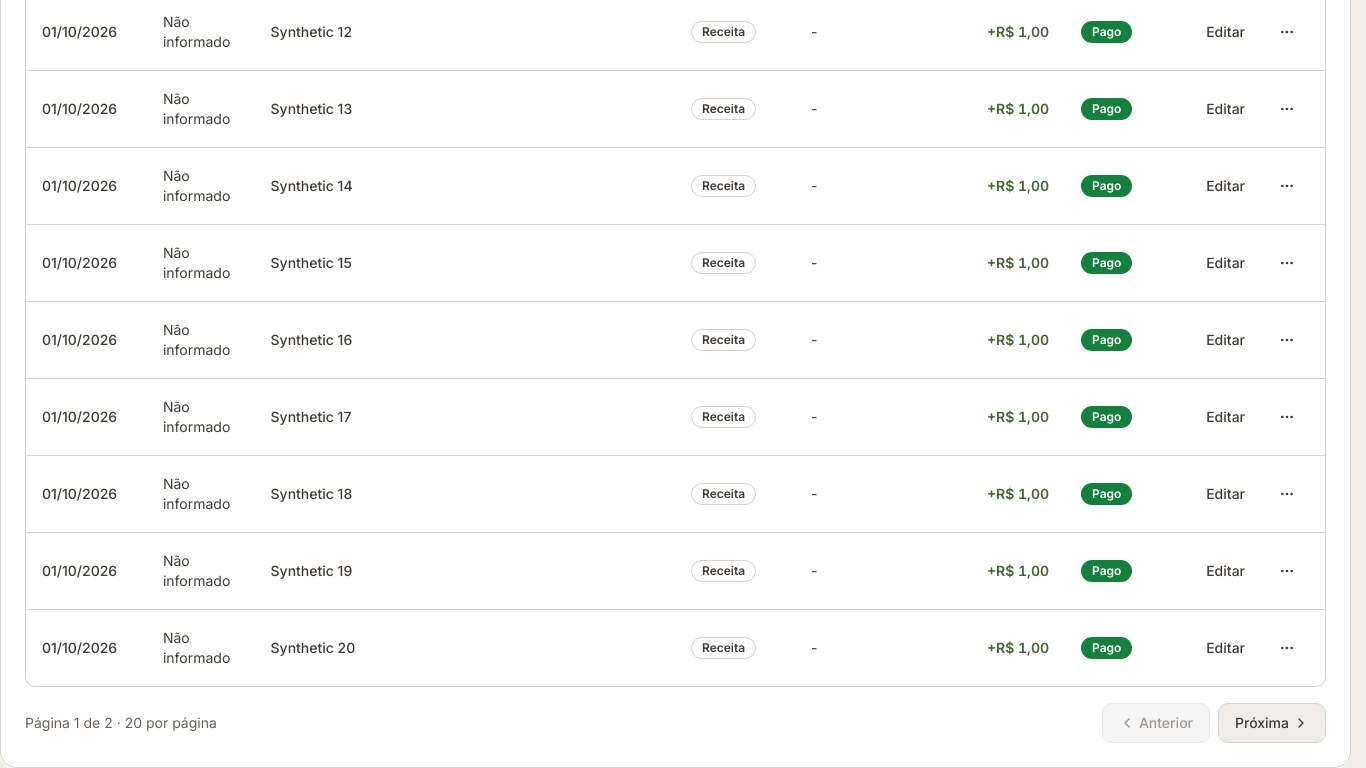
Test: financial workspace confidence and recovery › paginates rendering without changing filtered totals and exposes the full description
The width and height of the screenshot is (1366, 768).
(page scrolled)
Expected: the button "Synthetic 21" is not shown
Click the button "Próxima".
click(1272, 722)  # box [1218,702,1326,742]
(page scrolled)
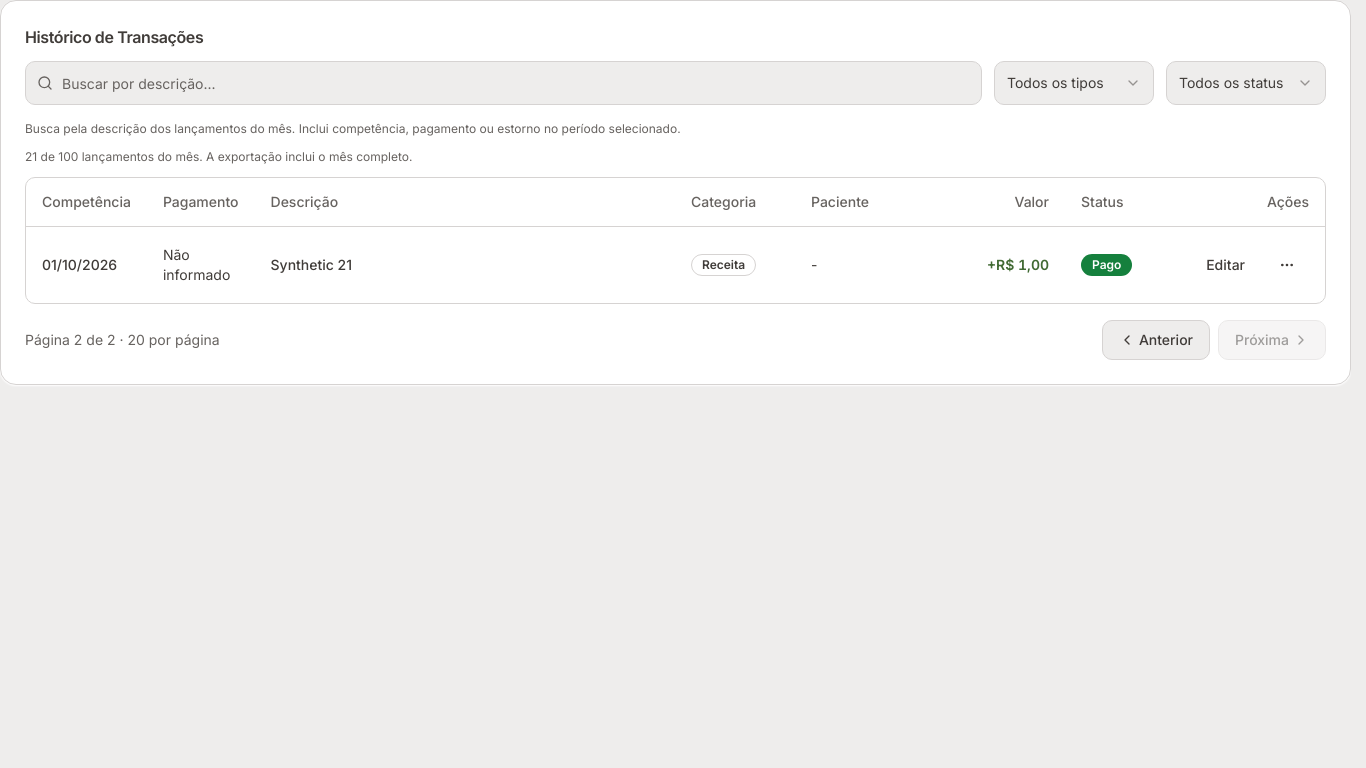
Click the button "Synthetic 21".
click(311, 264)  # box [270,242,352,286]
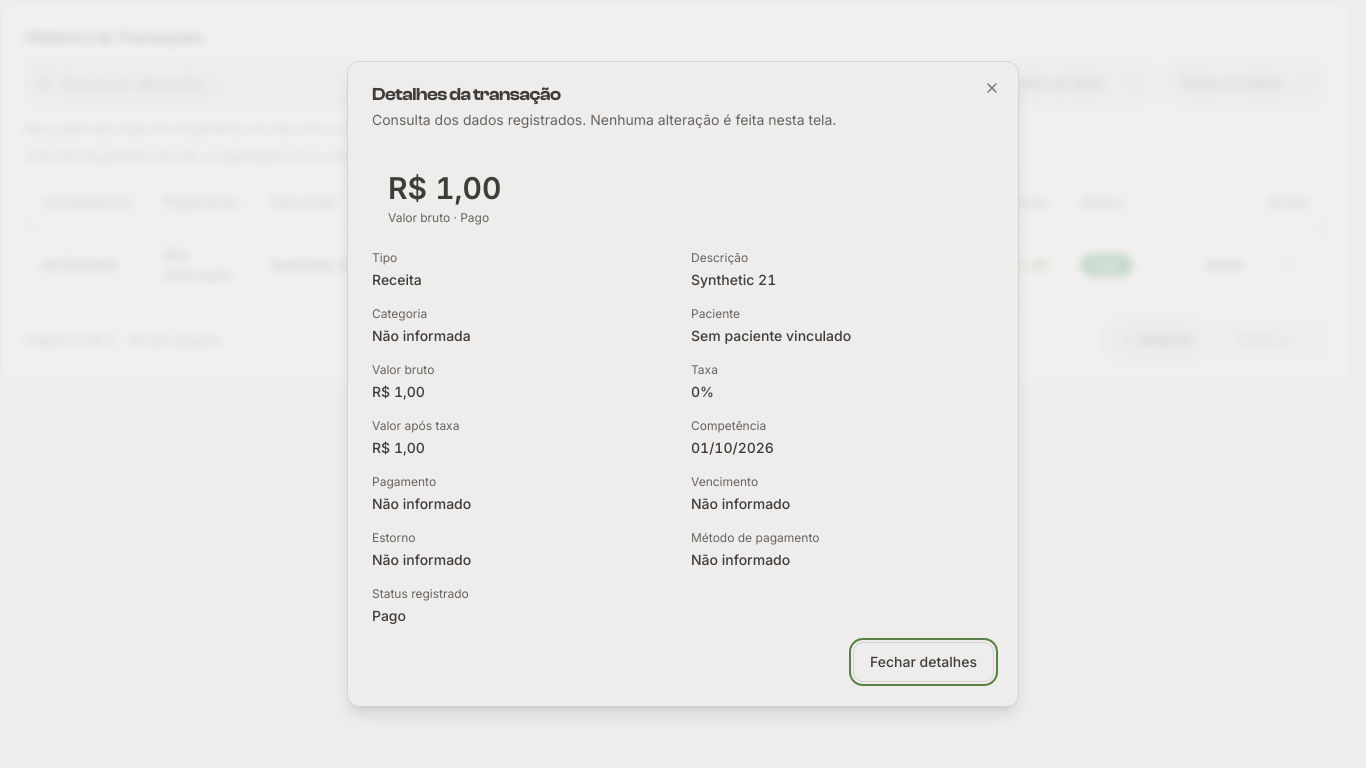
Now the dialog shows "Synthetic 21", box [691,271,776,288]
